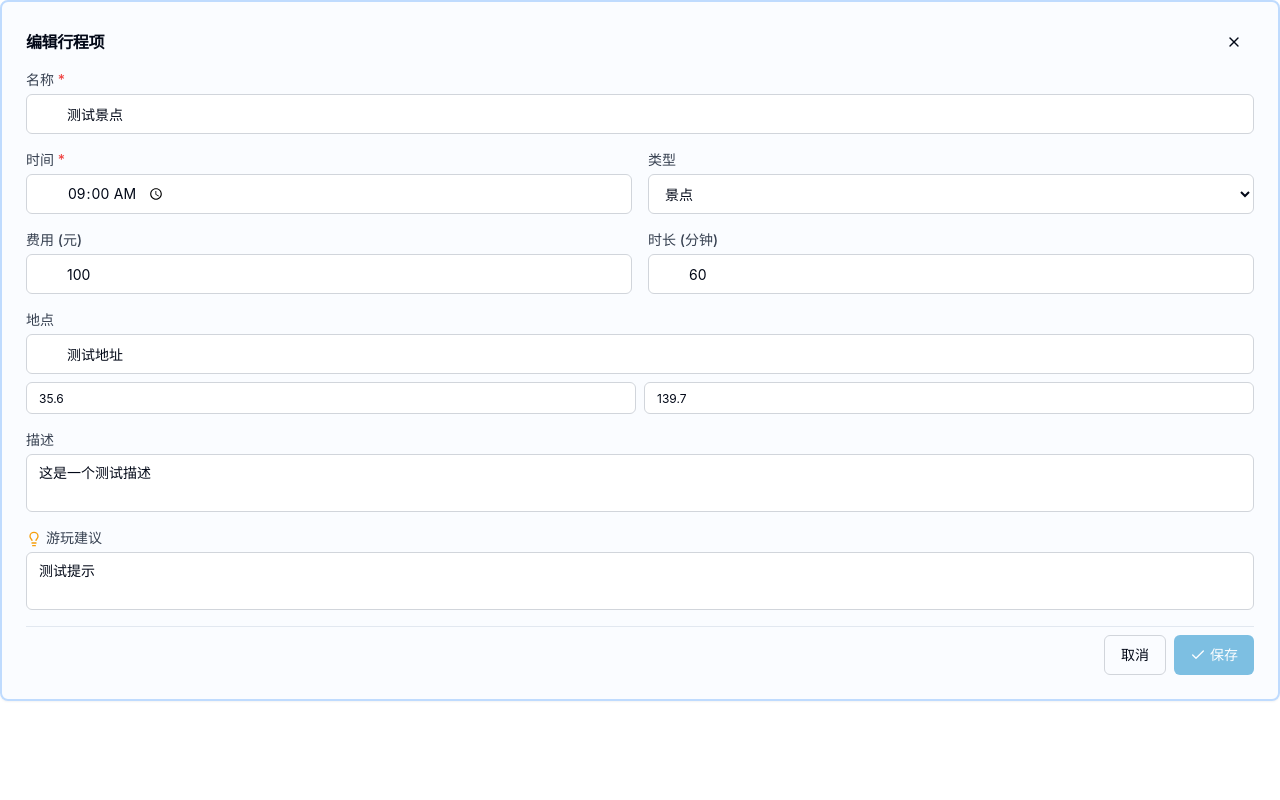
it: ItemEditor › 表单验证 › 应该验证时间格式（HH:MM）
The width and height of the screenshot is (1280, 800).
Replace the text in the time field showing "09:00" with "invalid": (329, 194) [26, 174, 632, 214]
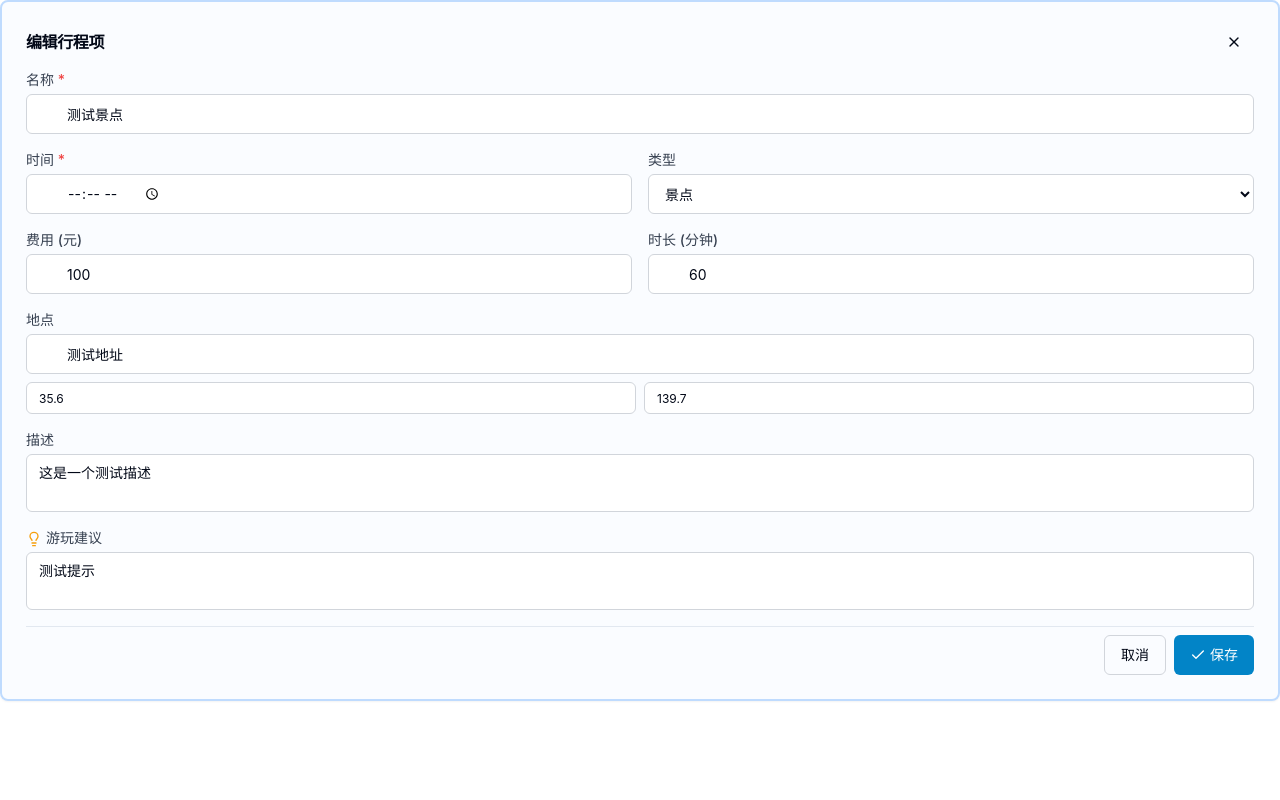
Click the button "保存": (1214, 655) [1174, 635, 1254, 675]
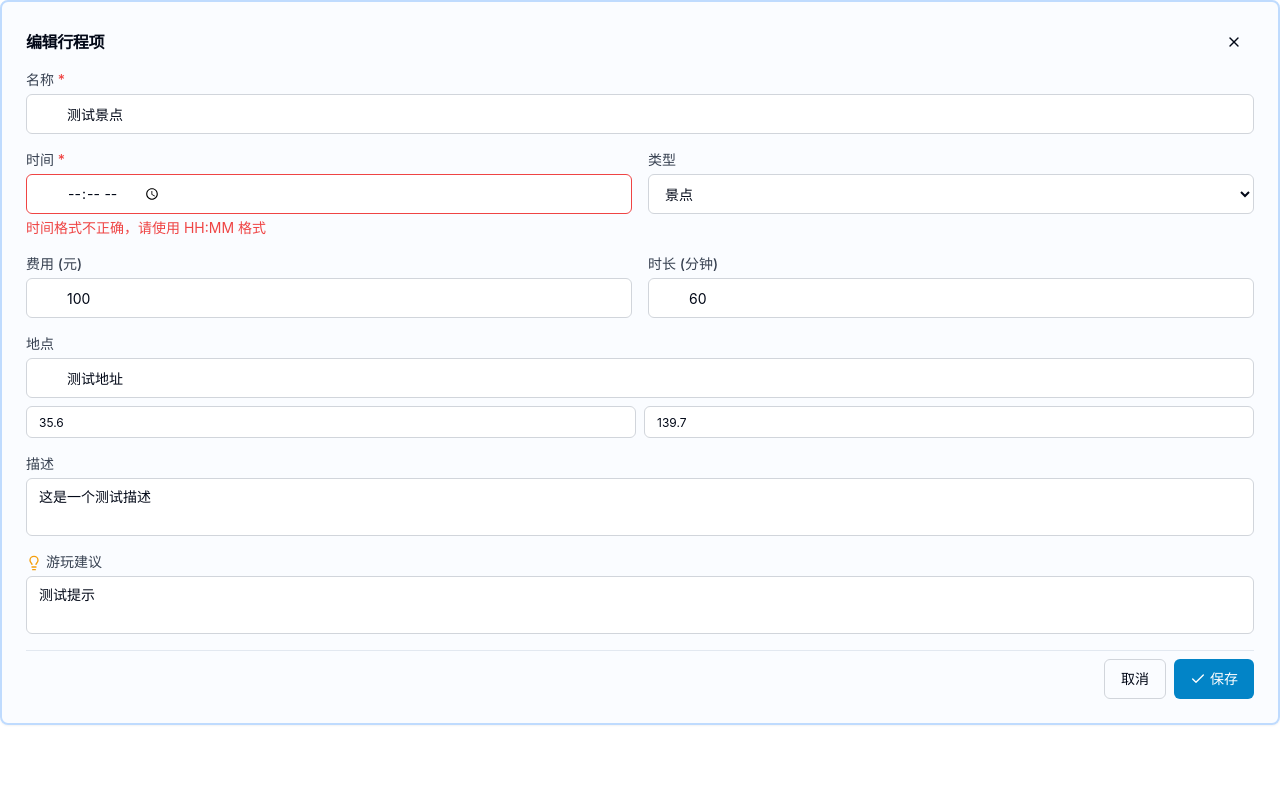
Check: the text "时间格式不正确，请使用 HH:MM 格式" is shown, box [26, 219, 266, 236]
